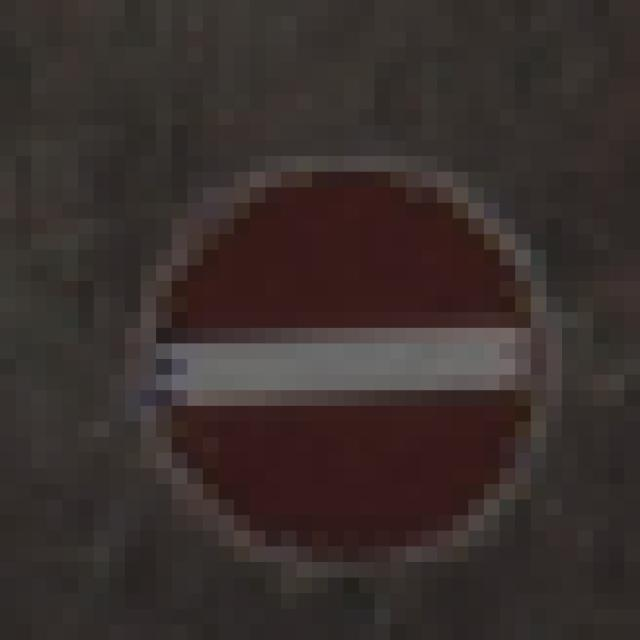No Entry: (79, 79, 547, 563)
